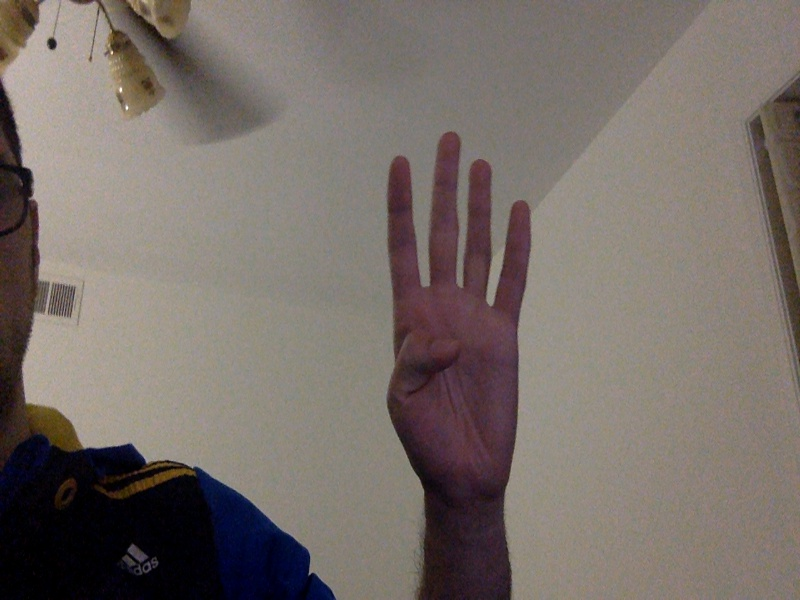4-hand: (385, 133, 533, 502)
